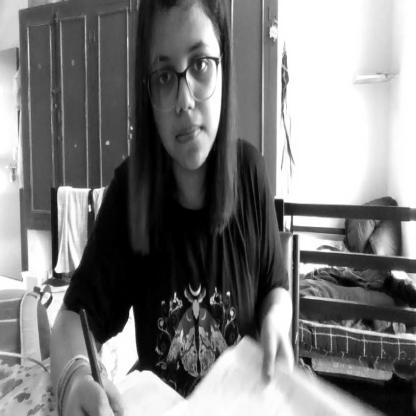Normal: (140, 0, 227, 179)
